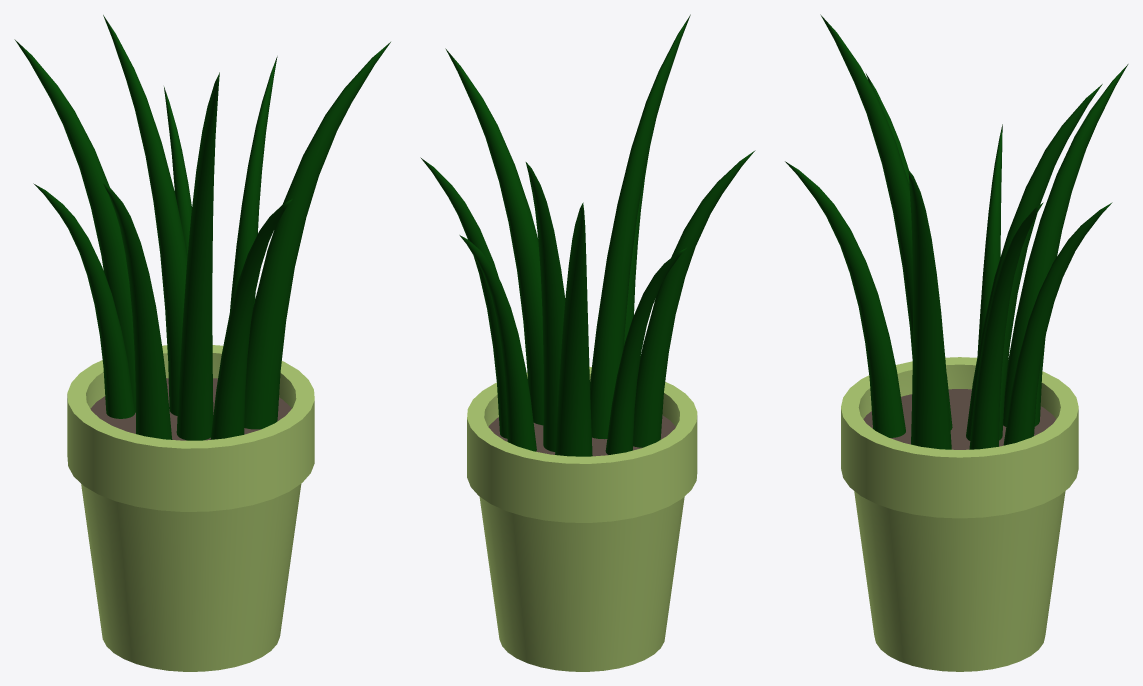
Rendered from Plante4_5.fbx.
The picture shows the model from 3 angles, left to right: view 1: azimuth 30°, elevation 25°; view 2: azimuth 150°, elevation 25°; view 3: azimuth 270°, elevation 25°; orthographic projection. The views are drawn at different scales.
Parts seen in each view (by area): view 1: pCylinder725, pCone27, pCone28, pCone25, pCone21, pCone22, pCone20, pCone23, pCone24, pCone26, pCylinder724; view 2: pCylinder725, pCone28, pCone27, pCone21, pCone22, pCone25, pCone26, pCone23, pCone24, pCylinder724, pCone20; view 3: pCylinder725, pCone27, pCone20, pCone22, pCone26, pCone24, pCone28, pCone25, pCone23, pCylinder724.
Boxes of the visible parts, <box> form: pCylinder725: <box>67,345,314,671</box>; pCone27: <box>244,42,390,429</box>; pCone28: <box>176,72,219,440</box>; pCone25: <box>103,15,187,415</box>; pCone21: <box>103,183,172,439</box>; pCone22: <box>14,39,135,412</box>; pCone20: <box>210,199,292,439</box>; pCone23: <box>33,183,135,418</box>; pCone24: <box>230,56,277,311</box>; pCone26: <box>164,87,191,255</box>; pCylinder724: <box>90,378,291,440</box>; pCylinder725: <box>467,366,697,671</box>; pCone28: <box>590,14,690,439</box>; pCone27: <box>445,48,543,425</box>; pCone21: <box>633,150,755,447</box>; pCone22: <box>555,202,592,456</box>; pCone25: <box>525,162,565,451</box>; pCone26: <box>459,235,536,451</box>; pCone23: <box>605,247,687,454</box>; pCone24: <box>420,157,507,438</box>; pCylinder724: <box>488,415,675,456</box>; pCone20: <box>624,149,649,345</box>; pCylinder725: <box>841,357,1078,671</box>; pCone27: <box>908,170,951,449</box>; pCone20: <box>785,161,905,437</box>; pCone22: <box>1003,64,1128,426</box>; pCone26: <box>1003,202,1112,445</box>; pCone24: <box>969,202,1043,449</box>; pCone28: <box>820,14,952,429</box>; pCone25: <box>966,84,1102,440</box>; pCone23: <box>977,124,1002,356</box>; pCylinder724: <box>863,389,1055,449</box>.
Bounding box in the file's own units: 16.25 × 31.25 × 16.23.
